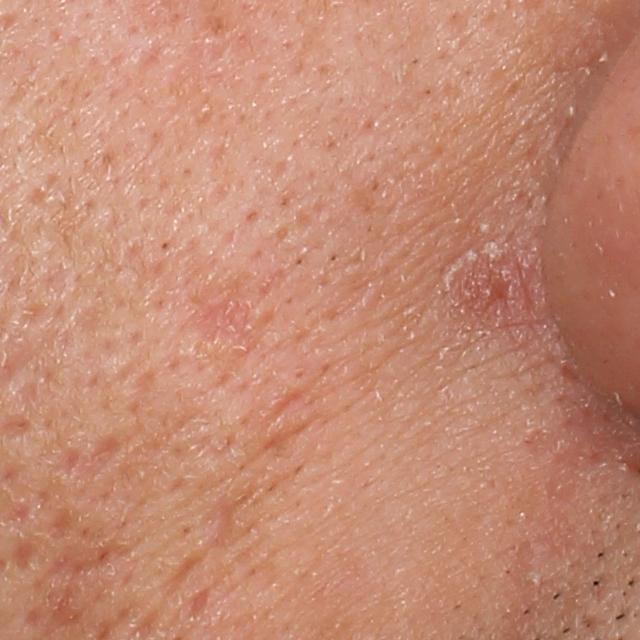atrophic_scar: (58, 434, 120, 483), (164, 545, 210, 595), (4, 533, 37, 577), (49, 507, 77, 540), (186, 588, 209, 622)
